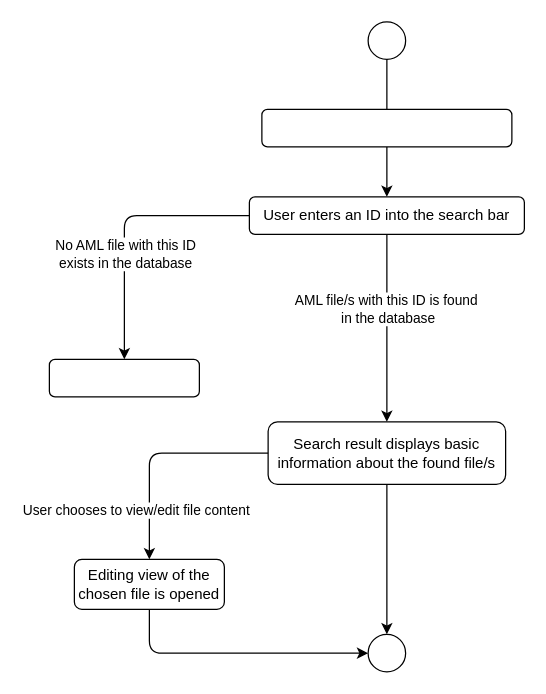
This 546x694 diagram has some shape labels left out. The centre of each missing label's shape, as x and y in pixels:
"Search result is empty" goes at (x=123, y=377).
"User opens the web application" goes at (x=386, y=127).
